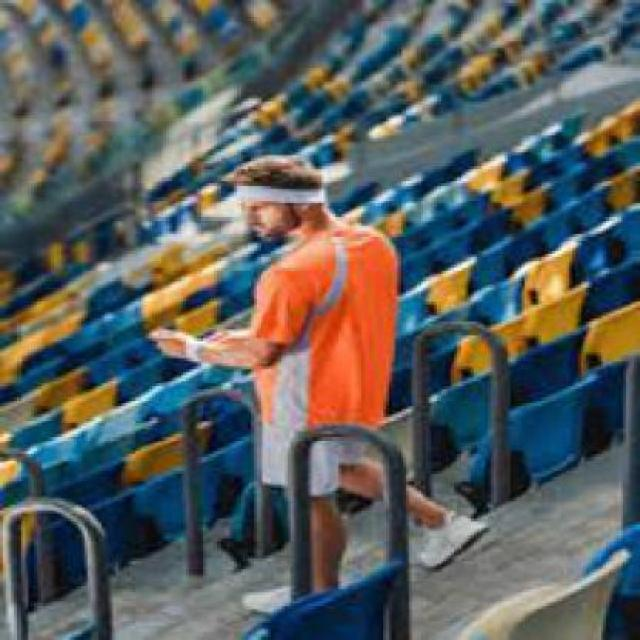stair: (415, 446, 615, 615)
